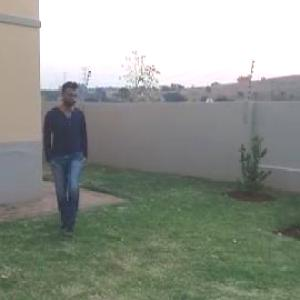follow: (30, 72, 89, 249)
